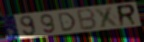9: (20, 15, 38, 37), (40, 13, 57, 34)
B: (76, 8, 99, 32)
D: (57, 12, 77, 33)
R: (116, 3, 138, 28)
X: (94, 6, 122, 29)
